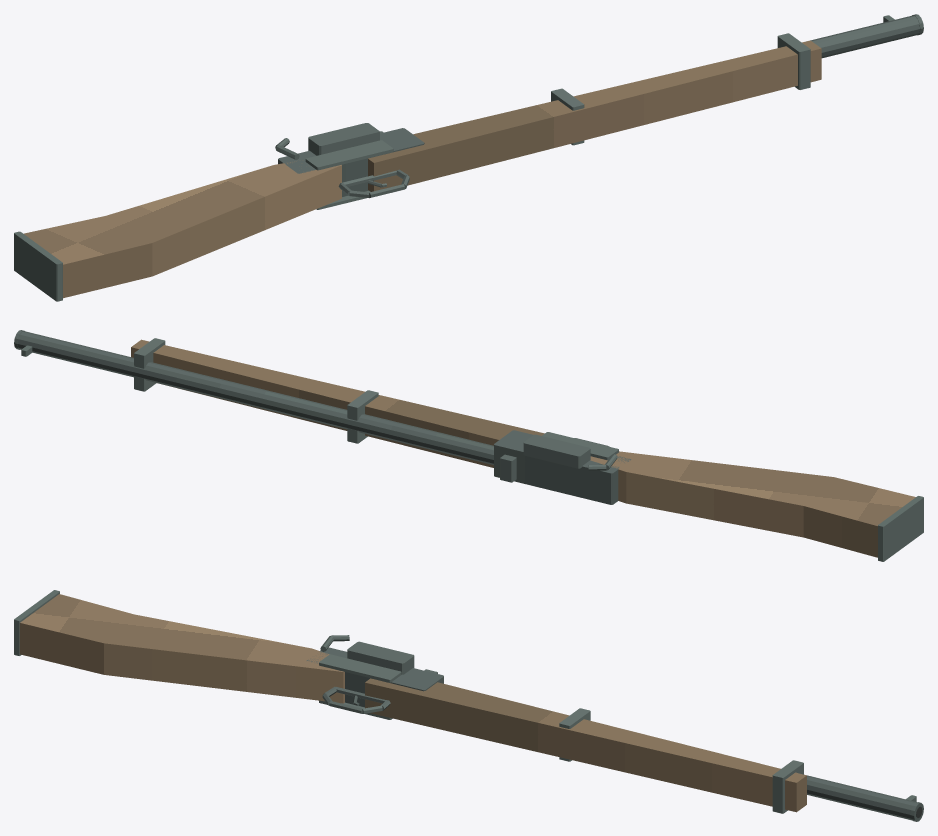
The model's file is weapon-snider.glb.
3 renders of one model, top to bottom at view 1: azimuth 30°, elevation 25°; view 2: azimuth 150°, elevation 25°; view 3: azimuth 330°, elevation 25°, orthographic. The views are drawn at different scales.
Parts seen in each view (by area): view 1: weapon-snider/tapered-full-depth-forend, weapon-snider/shaped-solid-butt, weapon-snider/long-barrel, weapon-snider/butt-end-plate, weapon-snider/central-receiver, weapon-snider/side-opening-block-shape, weapon-snider/external-lockplate-left, weapon-snider/stock-band-1; view 2: weapon-snider/shaped-solid-butt, weapon-snider/long-barrel, weapon-snider/tapered-full-depth-forend, weapon-snider/central-receiver, weapon-snider/butt-end-plate, weapon-snider/side-opening-block-shape, weapon-snider/stock-band-1, weapon-snider/stock-band-0, weapon-snider/external-lockplate-left; view 3: weapon-snider/shaped-solid-butt, weapon-snider/tapered-full-depth-forend, weapon-snider/long-barrel, weapon-snider/central-receiver, weapon-snider/side-opening-block-shape, weapon-snider/external-lockplate-left, weapon-snider/stock-band-1, weapon-snider/butt-end-plate.
Part boxes in pixels (bbox=[...]): weapon-snider/tapered-full-depth-forend: bbox=[368, 40, 821, 191]; weapon-snider/shaped-solid-butt: bbox=[24, 161, 341, 298]; weapon-snider/long-barrel: bbox=[810, 15, 919, 58]; weapon-snider/butt-end-plate: bbox=[14, 231, 62, 301]; weapon-snider/central-receiver: bbox=[278, 128, 424, 196]; weapon-snider/side-opening-block-shape: bbox=[308, 123, 379, 155]; weapon-snider/external-lockplate-left: bbox=[305, 140, 393, 170]; weapon-snider/stock-band-1: bbox=[777, 33, 810, 89]; weapon-snider/shaped-solid-butt: bbox=[590, 451, 915, 557]; weapon-snider/long-barrel: bbox=[17, 331, 493, 464]; weapon-snider/tapered-full-depth-forend: bbox=[131, 339, 544, 467]; weapon-snider/central-receiver: bbox=[494, 430, 631, 504]; weapon-snider/butt-end-plate: bbox=[878, 496, 923, 561]; weapon-snider/side-opening-block-shape: bbox=[523, 434, 590, 468]; weapon-snider/stock-band-1: bbox=[134, 338, 165, 391]; weapon-snider/stock-band-0: bbox=[347, 390, 378, 443]; weapon-snider/external-lockplate-left: bbox=[542, 432, 618, 460]; weapon-snider/shaped-solid-butt: bbox=[19, 594, 344, 703]; weapon-snider/tapered-full-depth-forend: bbox=[365, 678, 806, 812]; weapon-snider/long-barrel: bbox=[807, 775, 916, 820]; weapon-snider/central-receiver: bbox=[306, 647, 443, 707]; weapon-snider/side-opening-block-shape: bbox=[347, 641, 414, 674]; weapon-snider/external-lockplate-left: bbox=[319, 654, 401, 682]; weapon-snider/stock-band-1: bbox=[772, 760, 803, 813]; weapon-snider/butt-end-plate: bbox=[14, 590, 59, 655].
Bounding box in the file's own units: 1.25 × 0.0655 × 0.1539.
Materials: 3 (3 with a texture image).
